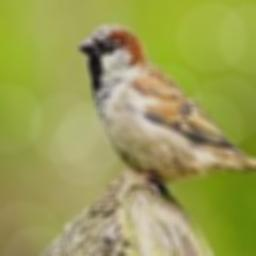Sparrow: (77, 23, 256, 200)
